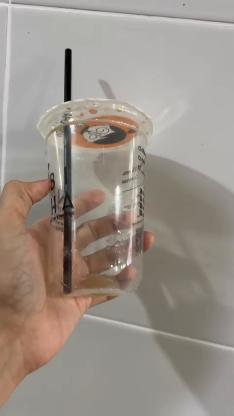Plastic Cup: (38, 97, 152, 298)
